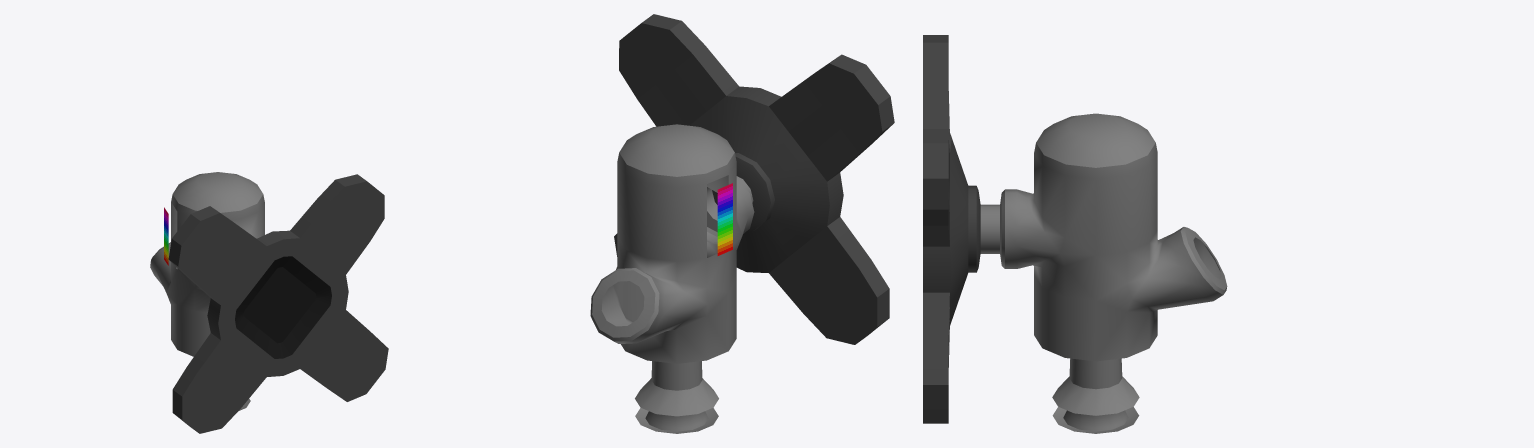
File: Leg_PaintGun_1X1_off.fbx
3 renders of one model, left to right at view 1: azimuth 30°, elevation 25°; view 2: azimuth 150°, elevation 25°; view 3: azimuth 270°, elevation 25°, orthographic. The views are drawn at different scales.
Visible parts, largest first — view 1: Box001; view 2: Box001; view 3: Box001.
Boxes of the visible parts, x1,y1,x2,y2 form: Box001: [150, 172, 388, 433]; Box001: [590, 14, 894, 433]; Box001: [923, 35, 1227, 433].
Bounding box in the file's own units: 0.9552 × 1.29 × 1.78.
